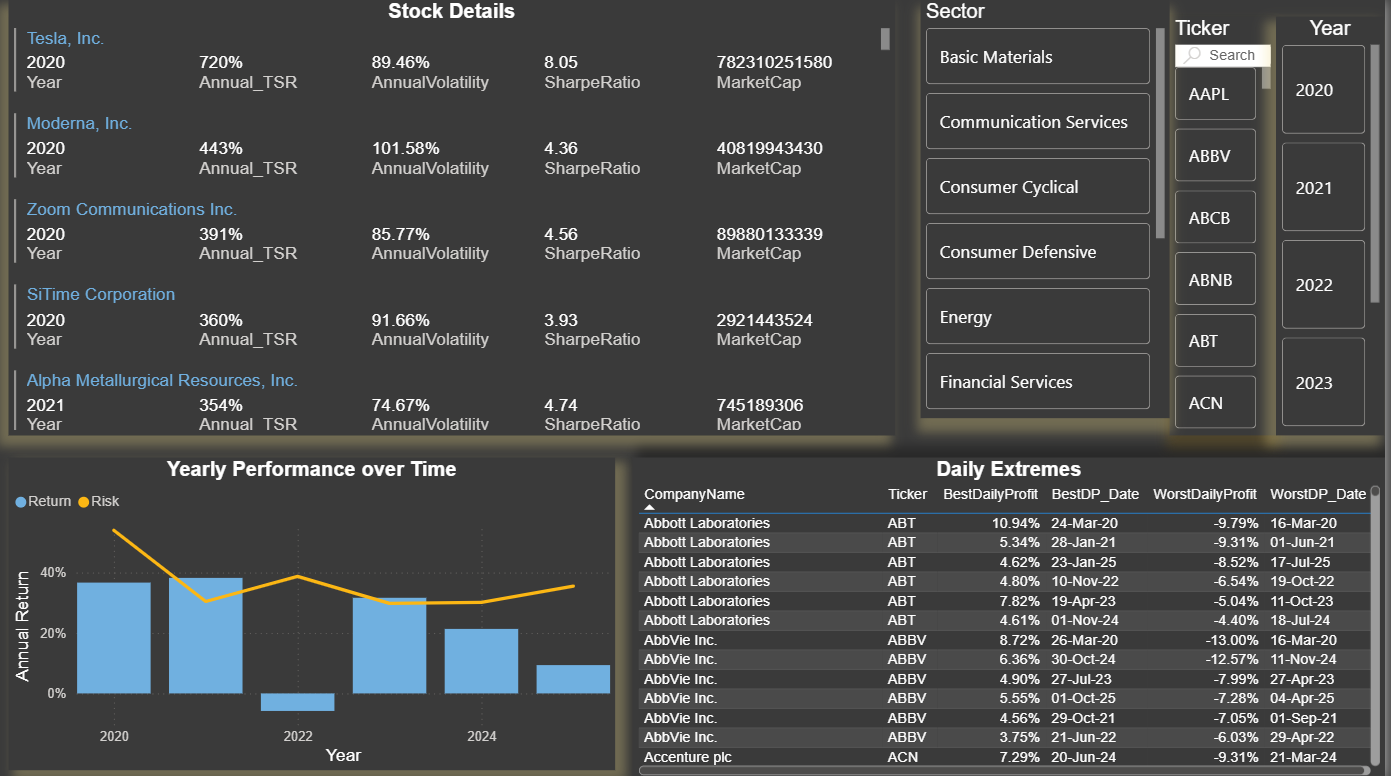

The dashboard page shown, as its layout file describes it:
{"tool":"powerbi","page":{"name":"Individual Stock dive","canvas":[1280,720],"ordinal":3},"visuals":[{"type":"multiRowCard","title":"Stock Details","fields":{"Values":["stock_metrics_yearly.Year","stock_metrics_yearly.Annual_TSR","stock_metrics_yearly.AnnualVolatility","stock_metrics_yearly.SharpeRatio","stock_metrics_yearly.CompanyName","stock_metrics_yearly.MarketCap"]},"box":[10,0,818.3,401.7],"z":0},{"type":"advancedSlicerVisual","fields":{"Values":["stock_metrics_yearly.Ticker"]},"box":[1081.7,15,98.3,386.7],"z":1000},{"type":"lineStackedColumnComboChart","title":"Yearly Performance over Time","fields":{"Category":["stock_metrics_yearly.Year"],"Y":["Avg(stock_metrics_yearly.Annual_TSR)"],"Y2":["Avg(stock_metrics_yearly.AnnualVolatility)"]},"box":[10,421.7,560,288.3],"z":2000},{"type":"advancedSlicerVisual","fields":{"Values":["stock_metrics_yearly.Sector"]},"box":[852,0,230,386],"z":3000},{"type":"tableEx","title":"Daily Extremes","fields":{"Values":["stock_metrics_yearly.CompanyName","stock_metrics_yearly.Ticker","stock_metrics_yearly.MaxDailyProfit","stock_metrics_yearly.MaxDP_Date","stock_metrics_yearly.MinDailyProfit","stock_metrics_yearly.MinDP_Date"]},"box":[585,421.7,695,298.3],"z":4000},{"type":"advancedSlicerVisual","fields":{"Values":["stock_metrics_yearly.Year"]},"box":[1180,15,100,386.7],"z":5000}]}

Visuals, with their boxes in screenshot pixels (x1, y1, x2, y2), scaled from the page's 1280x720 canvas onto the 1391x776 screenshot:
"Stock Details" multiRowCard: (11, 0, 900, 433)
advancedSlicerVisual - stock_metrics_yearly.Ticker: (1176, 16, 1282, 433)
"Yearly Performance over Time" lineStackedColumnComboChart: (11, 454, 619, 765)
advancedSlicerVisual - stock_metrics_yearly.Sector: (926, 0, 1176, 416)
"Daily Extremes" tableEx: (636, 454, 1390, 775)
advancedSlicerVisual - stock_metrics_yearly.Year: (1282, 16, 1390, 433)
